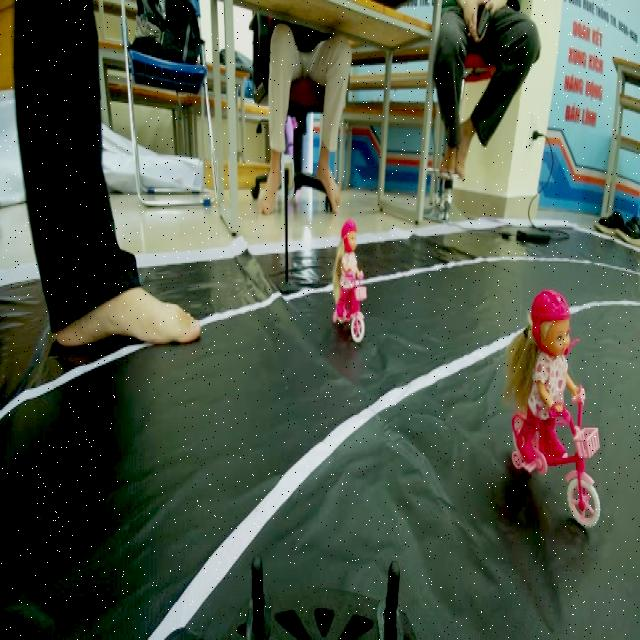pedestrian: (508, 264, 607, 528), (320, 218, 376, 340)
